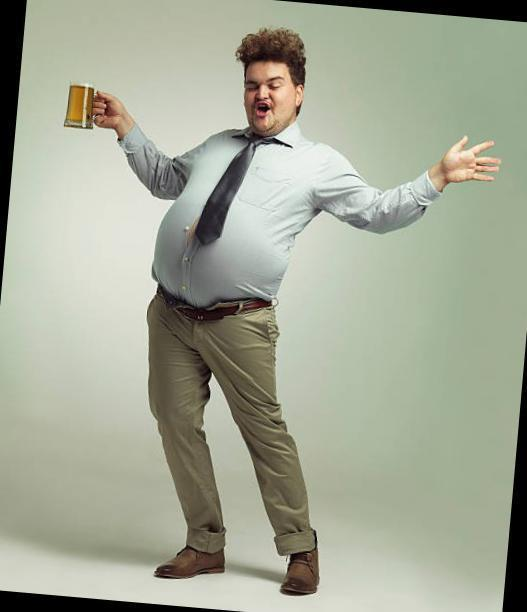Drunk: (245, 64, 291, 132)
